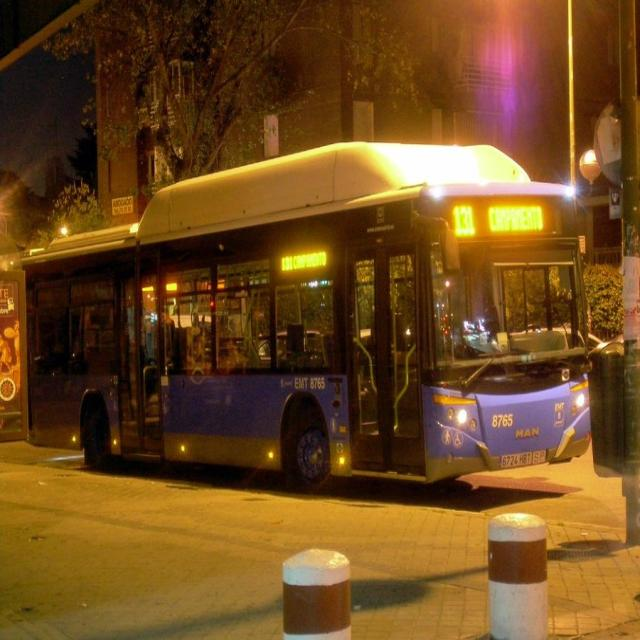Bus: (15, 182, 588, 536)
